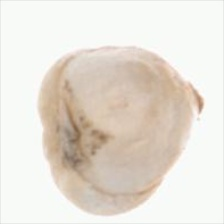L3: (176, 72, 205, 131)
L4: (37, 46, 206, 216)
